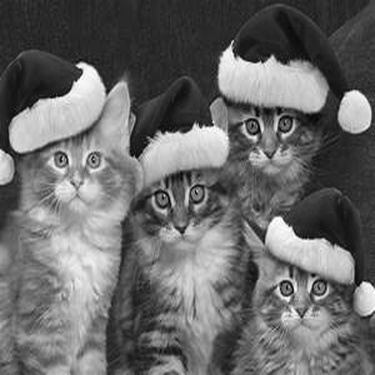cat: (2, 70, 147, 369), (101, 146, 255, 372), (232, 185, 371, 371), (219, 83, 330, 230)
